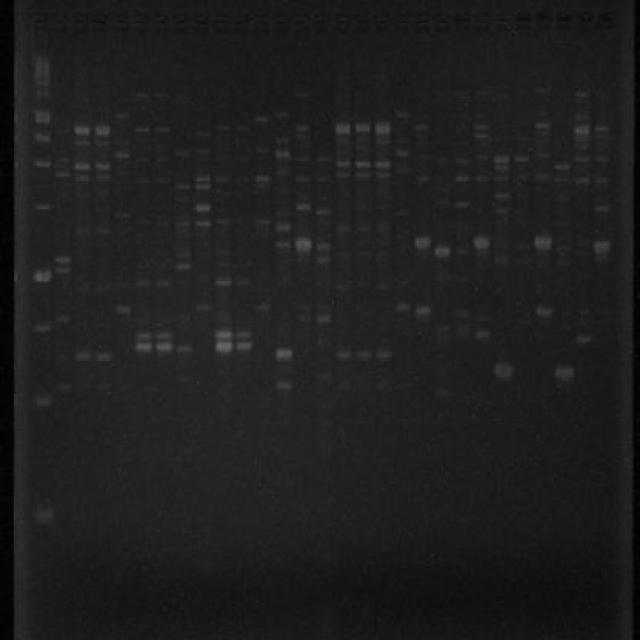B: (492, 360, 516, 382), (434, 322, 454, 344), (553, 364, 575, 382), (453, 322, 473, 340), (434, 384, 454, 402), (294, 235, 314, 252), (592, 238, 612, 255), (534, 234, 552, 251), (472, 234, 490, 251), (432, 243, 450, 260), (414, 234, 432, 250), (114, 302, 134, 316), (453, 306, 473, 320), (274, 346, 294, 360), (376, 219, 392, 236), (73, 123, 92, 137), (93, 124, 112, 138), (192, 126, 211, 140), (174, 260, 193, 274), (535, 306, 554, 320), (214, 340, 233, 354), (134, 216, 154, 229), (154, 329, 174, 342), (134, 329, 154, 342), (134, 341, 154, 354), (73, 349, 93, 362), (354, 120, 372, 134), (214, 120, 232, 134), (374, 120, 392, 134), (254, 143, 272, 157), (335, 222, 353, 236), (235, 341, 254, 354), (155, 341, 174, 354), (512, 170, 532, 182), (94, 350, 114, 362), (274, 134, 291, 148), (274, 146, 291, 160), (274, 162, 291, 176), (175, 342, 192, 356), (254, 112, 272, 125), (334, 121, 352, 134), (374, 158, 392, 171), (294, 200, 312, 213), (194, 201, 212, 214), (355, 222, 373, 235), (474, 328, 492, 341), (314, 371, 332, 384), (553, 160, 572, 172), (576, 332, 592, 346), (494, 152, 511, 165), (112, 210, 132, 221), (574, 110, 592, 122), (214, 154, 232, 166), (354, 158, 372, 170), (394, 164, 412, 176), (492, 204, 510, 216), (194, 218, 212, 230), (315, 240, 333, 252), (314, 254, 332, 266), (54, 264, 72, 276), (55, 380, 73, 392), (473, 88, 492, 99), (573, 88, 592, 99), (553, 172, 572, 183), (453, 246, 472, 257), (214, 328, 233, 339), (134, 88, 151, 100), (574, 140, 591, 152), (274, 110, 292, 121), (534, 119, 552, 130), (414, 121, 432, 132), (414, 172, 432, 183), (214, 173, 232, 184), (294, 173, 312, 184), (574, 173, 592, 184), (134, 176, 152, 187), (154, 216, 172, 227), (54, 253, 72, 264), (214, 276, 232, 287), (154, 277, 172, 288), (355, 350, 373, 361), (335, 350, 353, 361), (336, 158, 352, 170), (56, 314, 72, 326), (276, 380, 292, 392), (193, 146, 212, 156), (93, 162, 112, 172), (153, 154, 172, 164), (294, 122, 311, 133), (534, 150, 551, 161), (513, 152, 530, 163), (294, 153, 311, 164), (454, 172, 471, 183), (255, 302, 272, 313), (394, 302, 411, 313), (474, 120, 489, 132), (374, 136, 392, 146), (134, 142, 152, 152), (174, 148, 192, 158), (315, 152, 333, 162), (472, 153, 492, 162), (174, 182, 192, 192), (274, 222, 292, 232), (414, 306, 432, 316), (54, 169, 70, 180), (316, 207, 332, 218), (112, 168, 131, 177), (574, 124, 591, 134), (593, 154, 610, 164), (54, 154, 71, 164), (75, 162, 92, 172), (194, 182, 211, 192), (317, 313, 332, 324), (354, 170, 372, 179), (394, 208, 412, 217), (254, 217, 272, 226), (492, 217, 510, 226), (274, 240, 292, 249), (375, 351, 393, 360), (294, 314, 312, 323), (294, 304, 312, 313), (154, 143, 172, 152), (394, 148, 410, 158), (72, 226, 92, 234), (534, 86, 551, 95), (394, 110, 411, 119), (113, 111, 130, 120), (594, 125, 611, 134), (113, 151, 130, 160), (574, 154, 591, 163), (74, 173, 91, 182), (94, 173, 111, 182), (593, 204, 610, 213), (314, 174, 331, 183), (593, 90, 612, 98), (153, 126, 172, 134), (73, 138, 92, 146), (173, 220, 192, 228), (197, 302, 212, 312), (94, 138, 112, 146), (134, 157, 152, 165), (374, 172, 392, 180), (154, 176, 172, 184), (214, 217, 232, 225), (236, 330, 252, 339), (294, 89, 311, 97), (153, 90, 170, 98), (474, 132, 491, 140), (453, 157, 470, 165), (534, 172, 551, 180), (494, 174, 511, 182), (254, 175, 271, 183), (593, 175, 610, 183), (493, 192, 510, 200), (454, 200, 471, 208), (95, 226, 112, 234), (193, 175, 212, 182), (134, 125, 150, 133), (336, 170, 352, 178), (136, 279, 152, 287), (374, 282, 390, 290), (473, 175, 490, 182), (494, 164, 511, 170), (574, 136, 591, 141)
L: (22, 0, 620, 43)
M: (26, 51, 57, 524)
P: (28, 318, 52, 337), (30, 266, 53, 285), (30, 502, 54, 520), (31, 390, 52, 410), (30, 154, 52, 172), (32, 106, 52, 125), (31, 127, 52, 144), (32, 198, 52, 214), (34, 88, 51, 101), (33, 78, 52, 89)
Pc: (494, 7, 514, 35), (534, 6, 554, 32), (594, 8, 614, 34), (170, 10, 192, 33), (249, 12, 271, 34), (514, 8, 534, 32), (28, 12, 46, 38), (89, 11, 109, 34), (192, 10, 212, 33), (230, 12, 250, 34), (332, 10, 352, 32), (454, 10, 474, 32), (554, 8, 574, 30), (574, 8, 592, 32), (293, 10, 312, 32), (212, 12, 232, 32), (374, 10, 392, 32), (394, 12, 412, 34), (434, 9, 452, 31), (476, 8, 492, 32), (273, 13, 292, 33), (312, 12, 331, 32), (354, 12, 372, 32), (414, 10, 432, 30), (50, 12, 67, 32), (110, 12, 127, 32), (150, 13, 170, 30), (71, 12, 87, 32), (130, 14, 148, 31)
